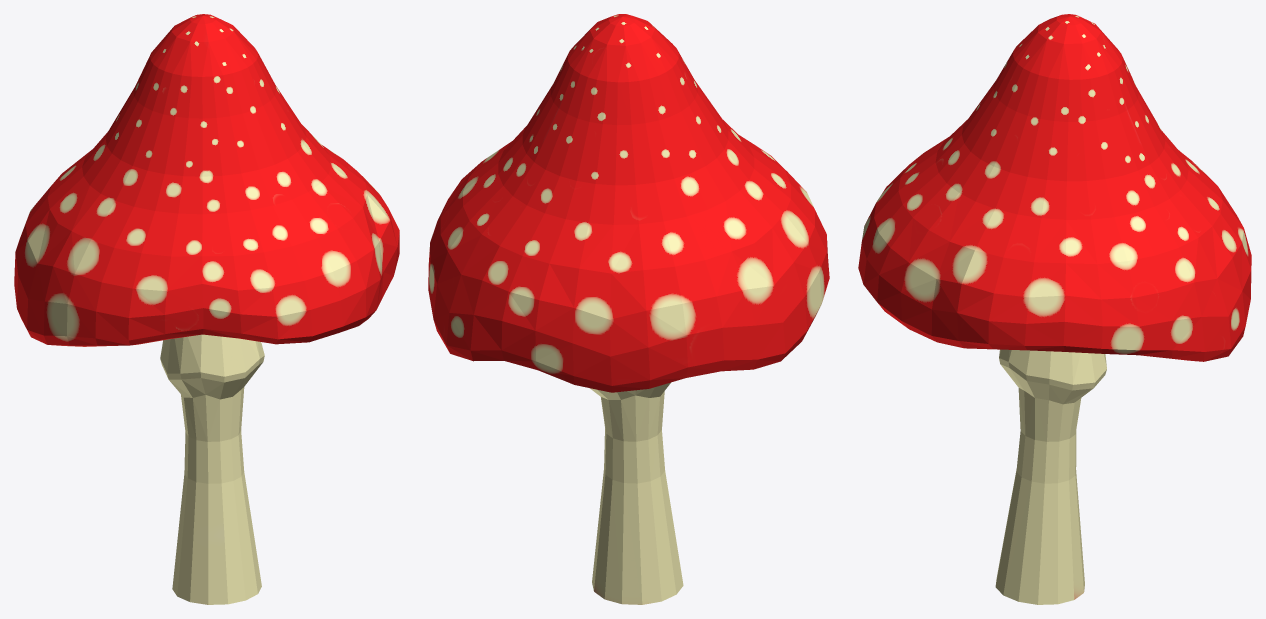
The model's file is Muhomor.fbx.
3 views of the same model, side by side, from view 1: azimuth 30°, elevation 25°; view 2: azimuth 150°, elevation 25°; view 3: azimuth 270°, elevation 25° (orthographic). The views are drawn at different scales.
Visible parts, largest first — view 1: Object.1; view 2: Object.1; view 3: Object.1.
Part boxes in pixels (<box>): Object.1: <box>14,14,399,604</box>; Object.1: <box>428,14,829,604</box>; Object.1: <box>858,14,1251,604</box>.
Size of the model in its own units: 917 by 1457 by 909.
1 material, 1 textured.
